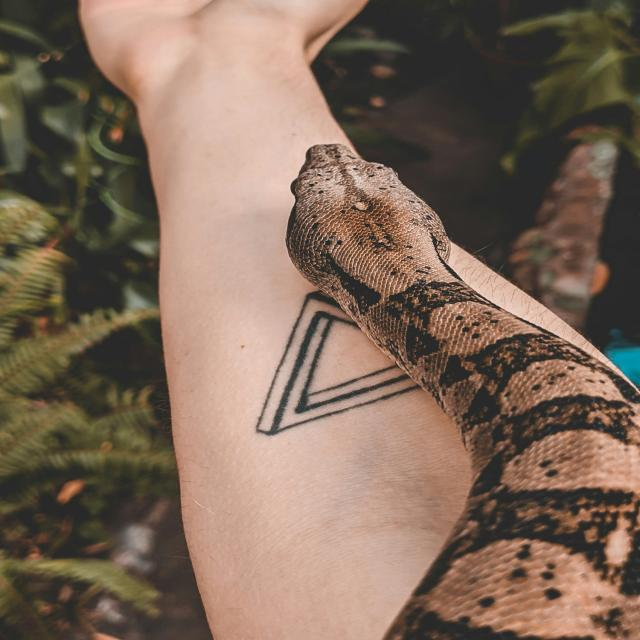Snake: (275, 140, 640, 639)
